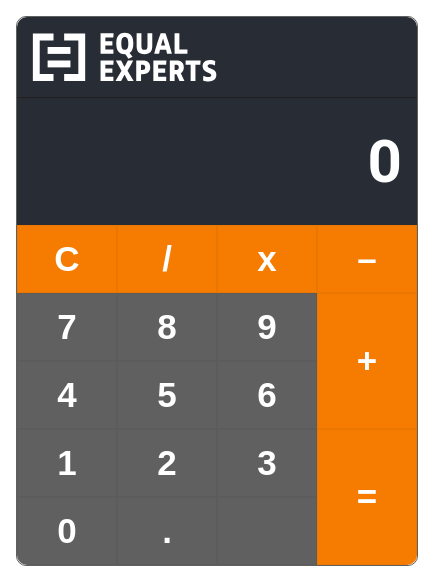
it: App Component Tests › App Interaction Tests › should test the calculator functionality to make sure its working
Click the button "5" at (167, 395), box [117,361,217,429]
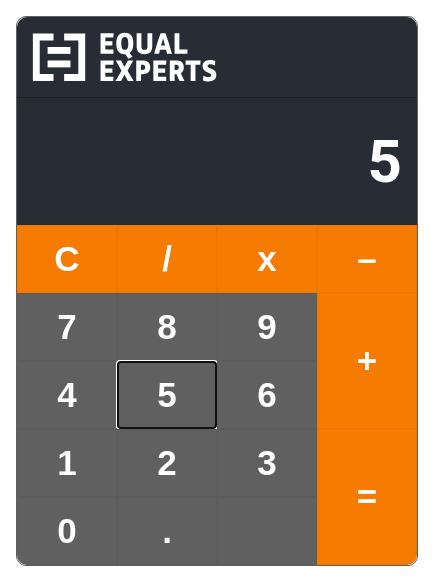
Click the button "x" at (267, 259), box [217,225,317,293]
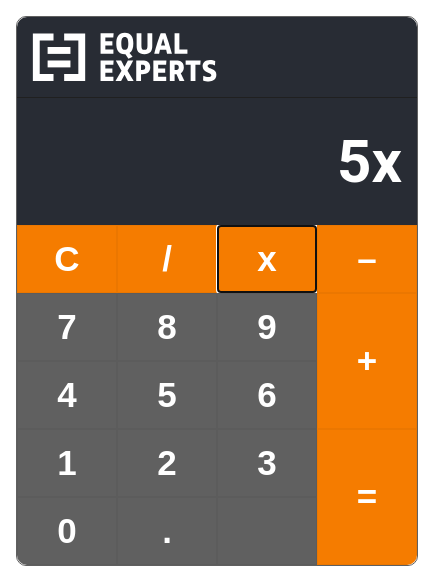
Click the button "1" at (67, 463), box [17,429,117,497]
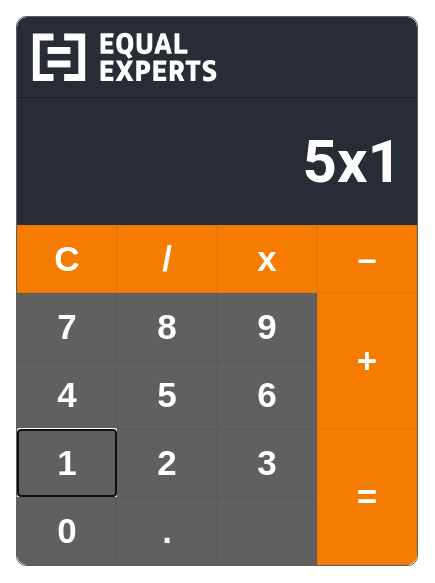
Click the button "0" at (67, 531), box [17,497,117,565]
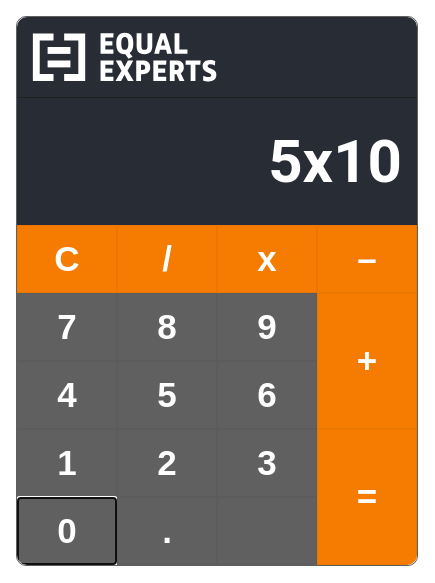
Click the button "=" at (367, 497), box [317,429,417,565]
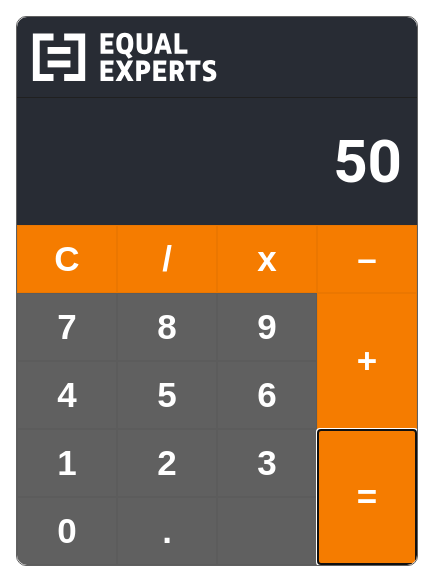
Expected: the text "50" is shown, [17,98,417,225]
